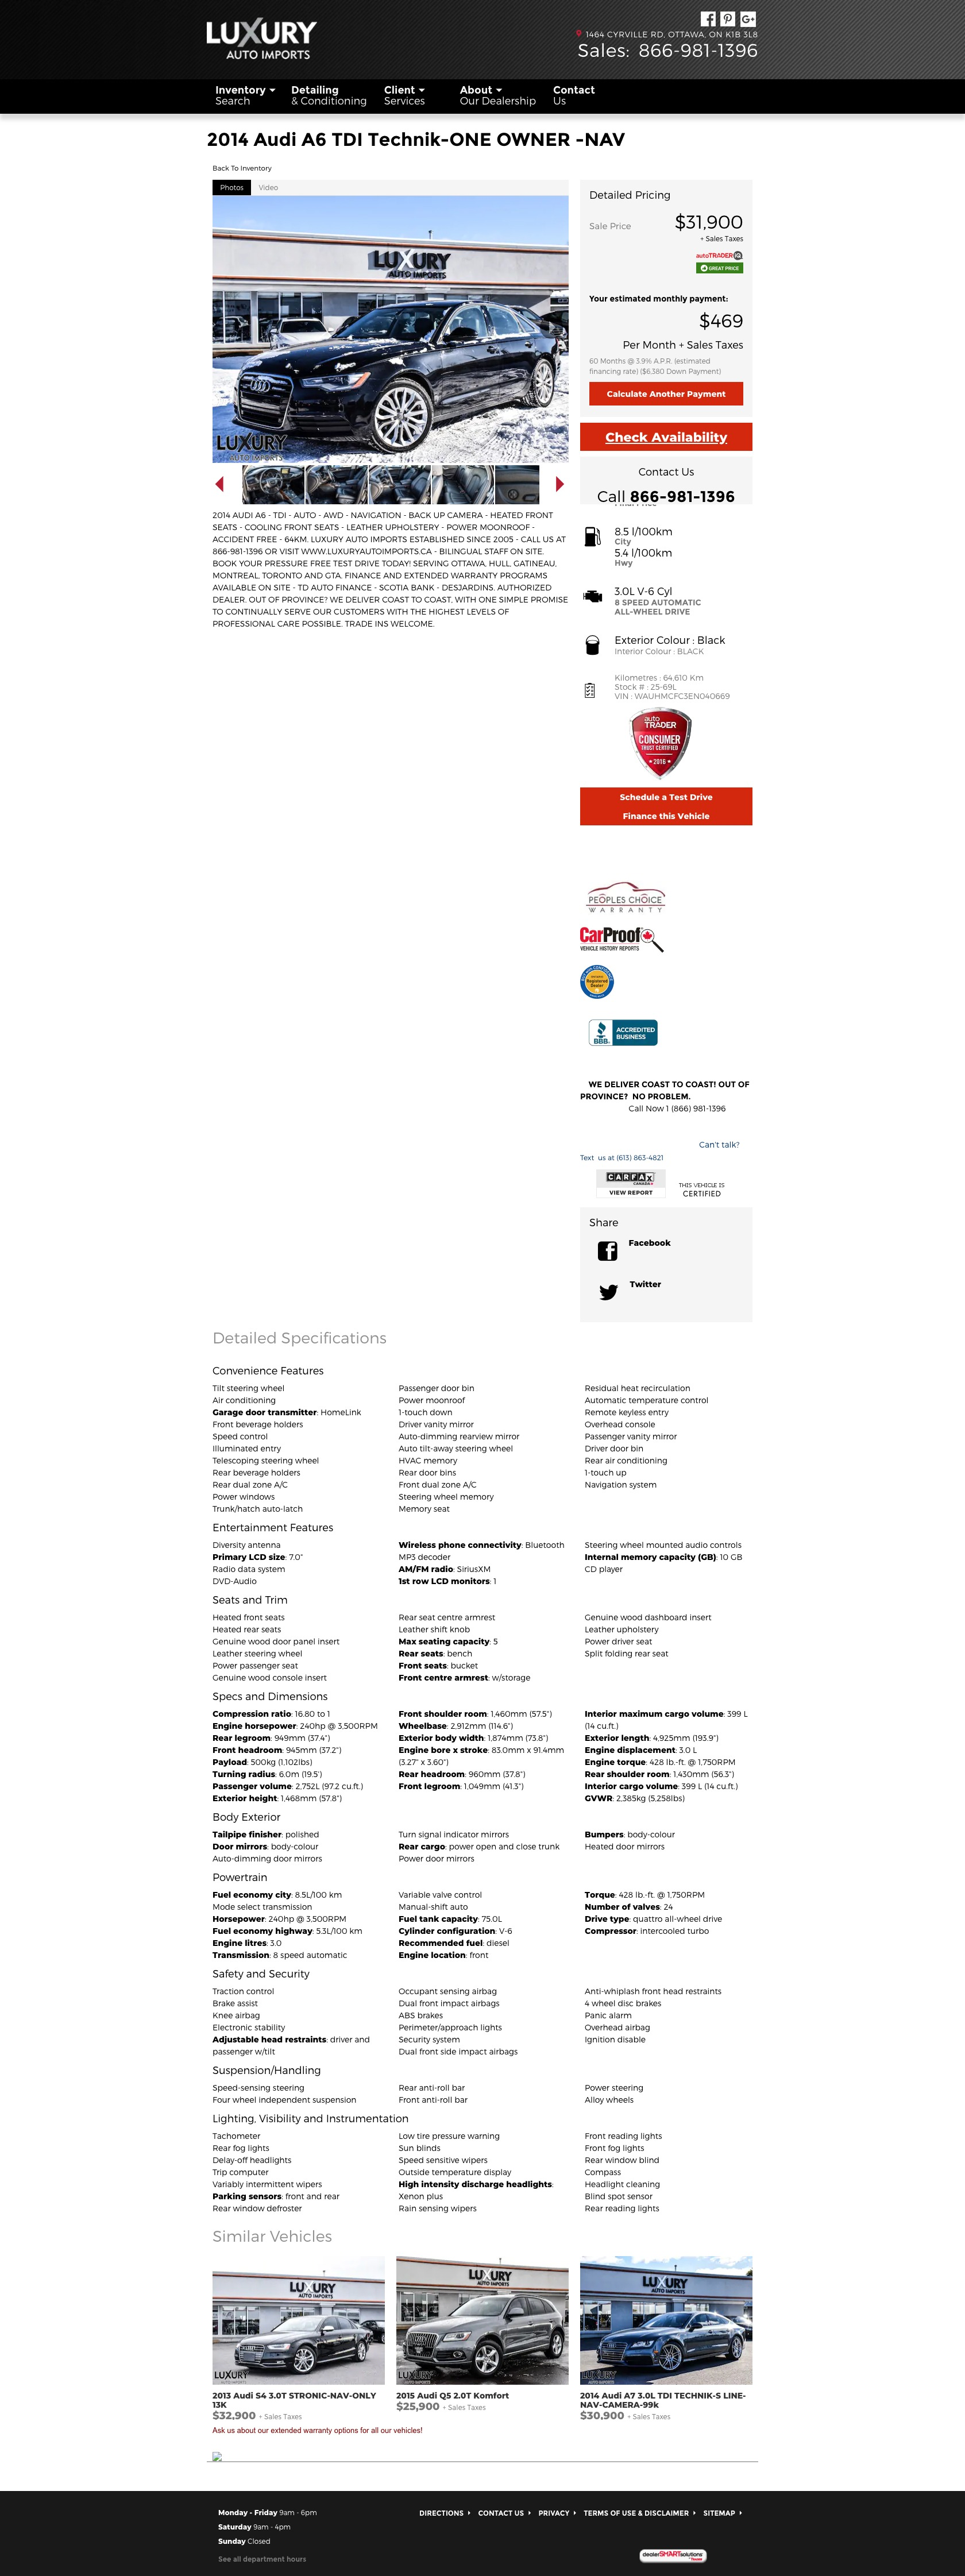car: (556, 475, 566, 493)
